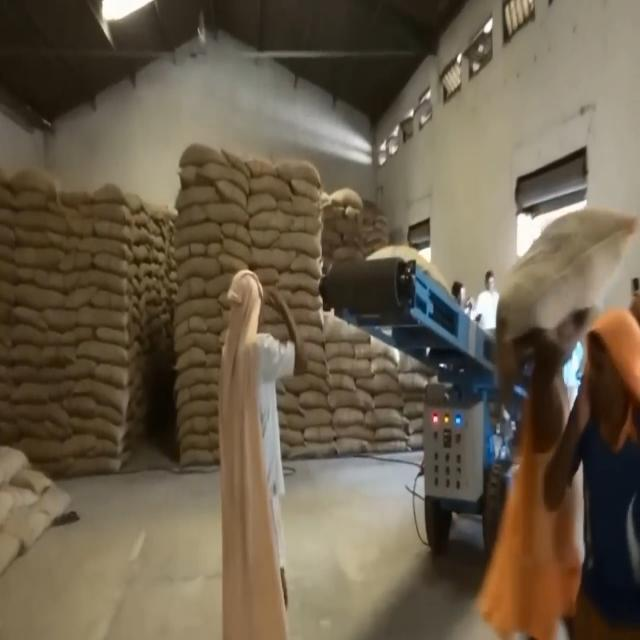gunny_bag: (491, 205, 636, 353), (364, 241, 454, 296), (72, 382, 134, 422), (61, 228, 137, 260), (77, 298, 139, 332), (74, 332, 138, 364), (13, 273, 69, 309), (270, 152, 322, 188), (8, 374, 62, 408), (68, 445, 123, 476), (14, 244, 72, 272), (9, 168, 56, 202), (169, 222, 226, 250), (326, 383, 374, 416), (272, 192, 324, 222), (64, 269, 128, 293), (172, 329, 222, 359), (178, 144, 238, 168), (202, 199, 250, 229), (274, 268, 322, 298), (178, 367, 222, 399), (239, 206, 289, 233), (78, 202, 134, 226), (275, 230, 323, 258), (174, 292, 213, 326), (170, 298, 230, 320), (180, 253, 222, 284), (36, 342, 84, 368), (324, 352, 369, 379), (176, 394, 219, 422), (3, 314, 45, 342), (19, 210, 70, 232), (173, 185, 226, 205), (203, 164, 247, 188), (326, 182, 366, 208), (333, 422, 379, 444), (294, 390, 338, 410), (368, 412, 412, 432), (179, 446, 217, 464), (178, 428, 216, 446), (301, 422, 339, 440)
